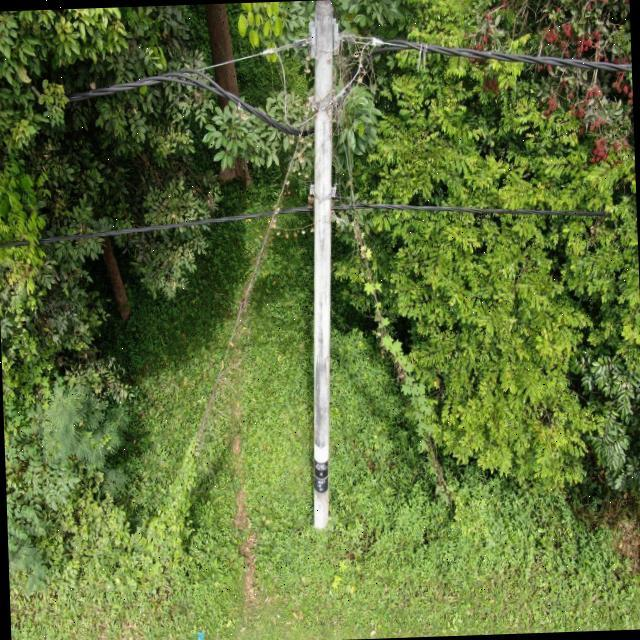critical vegetation: (328, 35, 461, 512), (128, 212, 292, 571)
